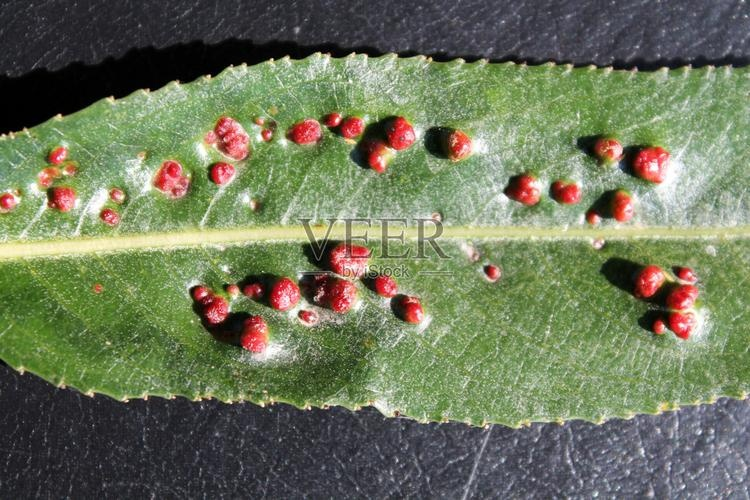Gall_Mite: (14, 123, 666, 227), (177, 239, 419, 356), (557, 234, 723, 334)
